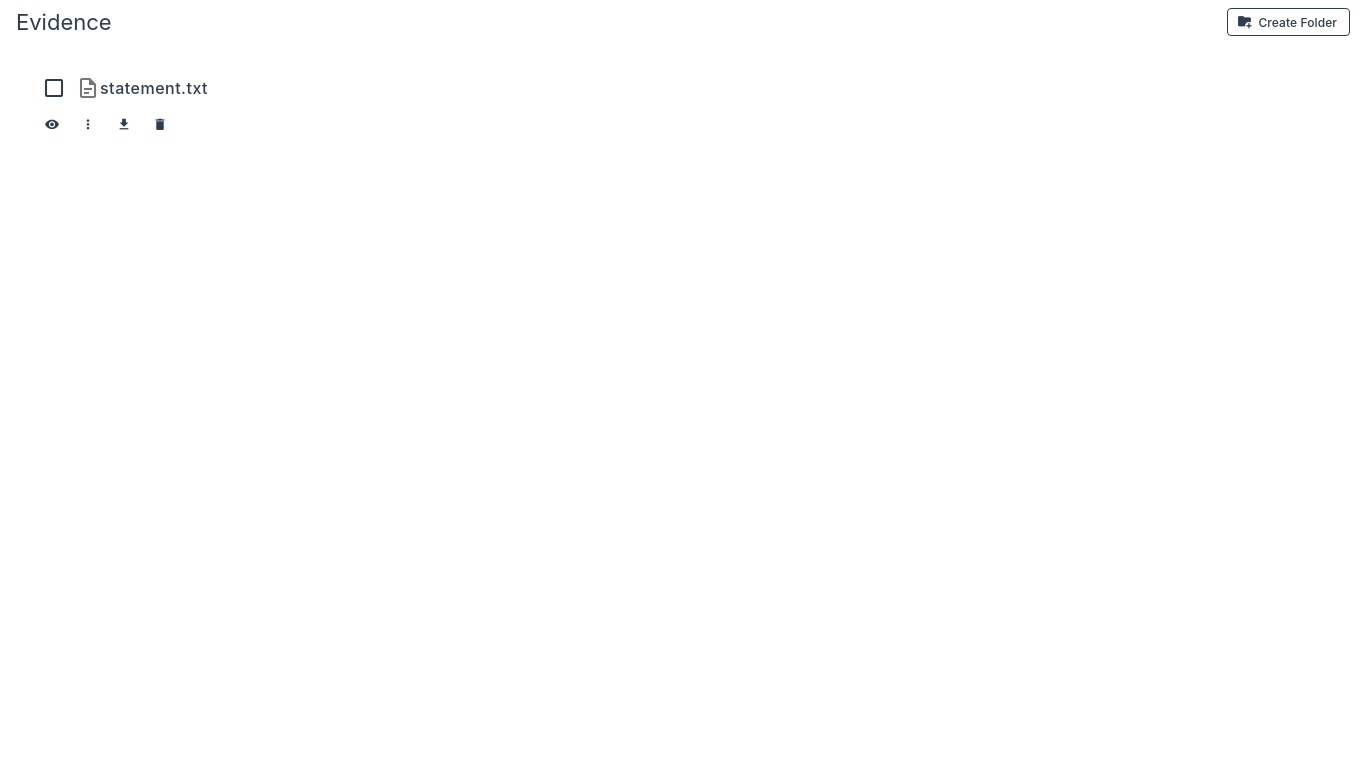
Test: Evidence tree › keeps failed deletion feedback inside the confirmation dialog
Click the button named "Delete statement.txt". click: (160,124)
box: [144,108,176,140]
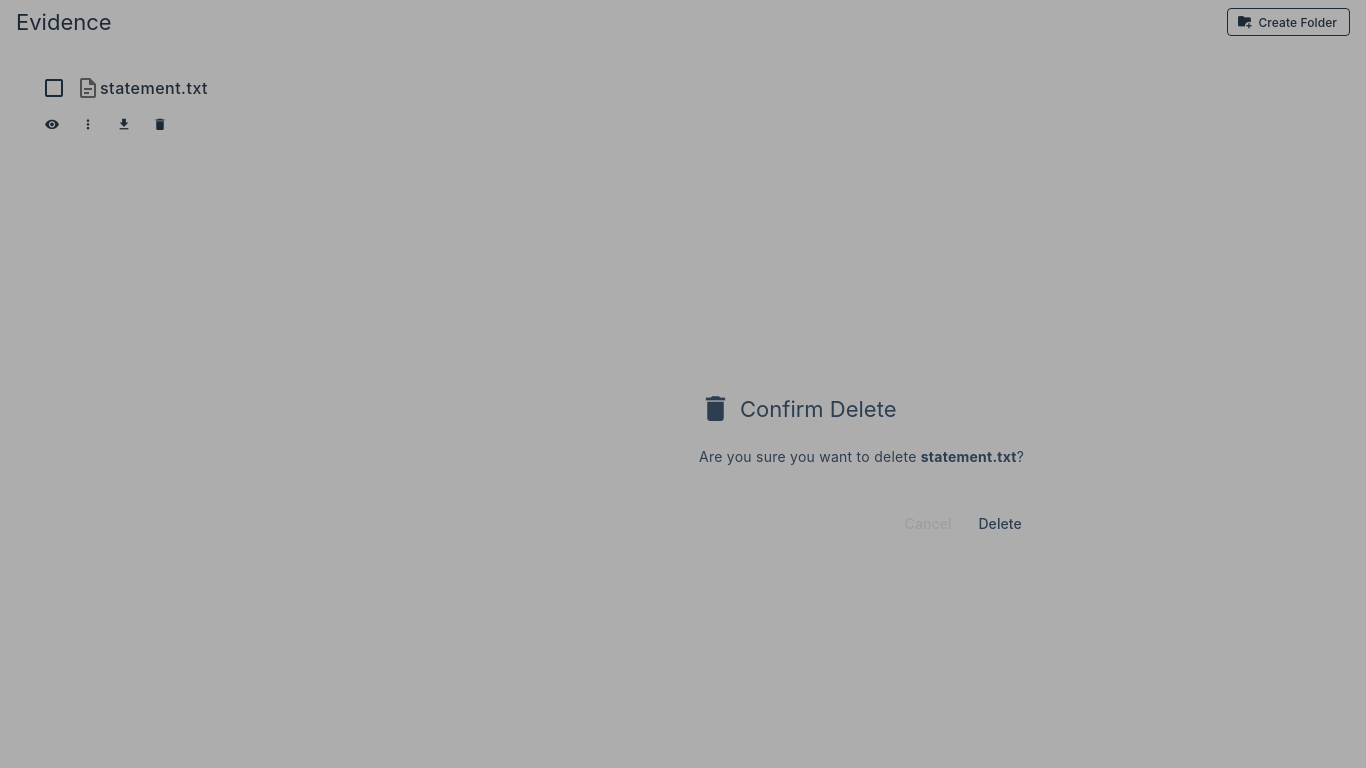
Click the button "Delete". click: (1000,523)
box: [968,505,1032,541]
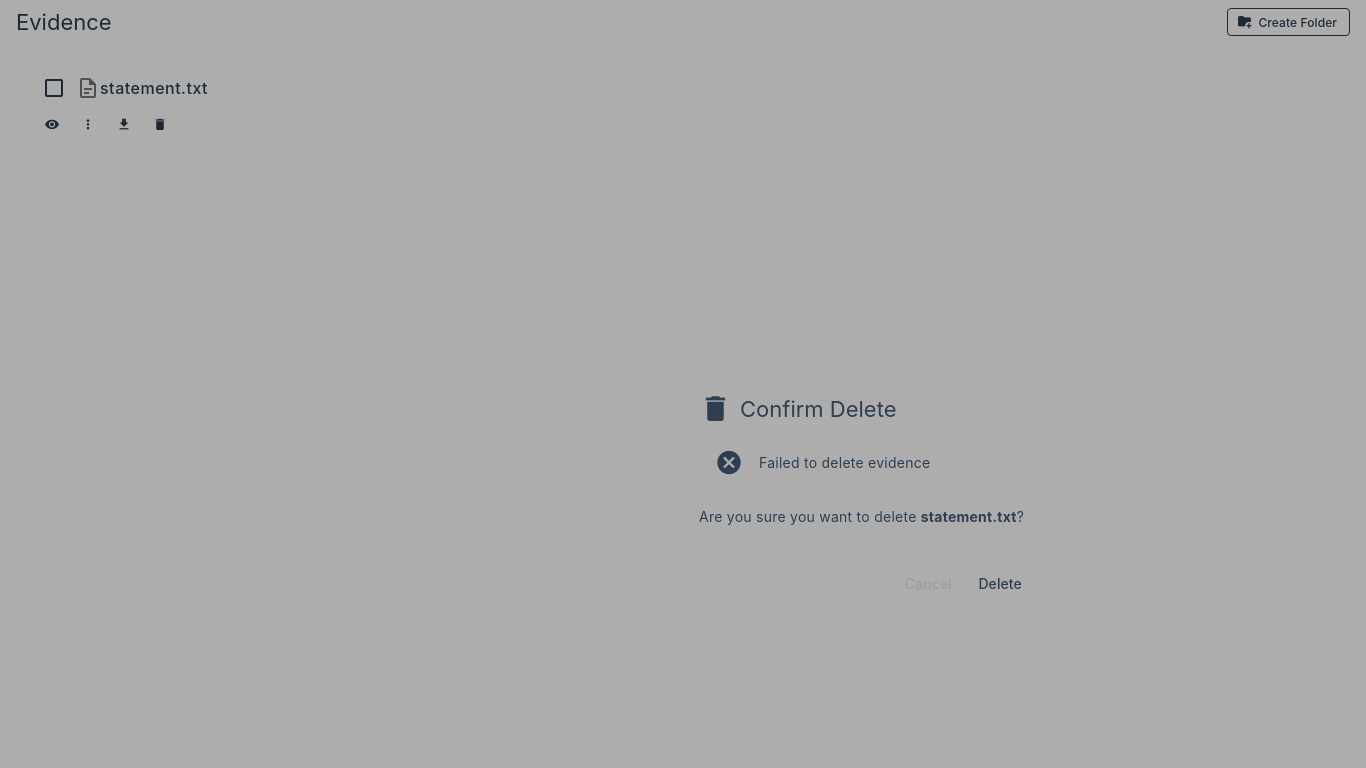
Result: the message "Failed to delete evidence" is shown at [715,449,930,477]
